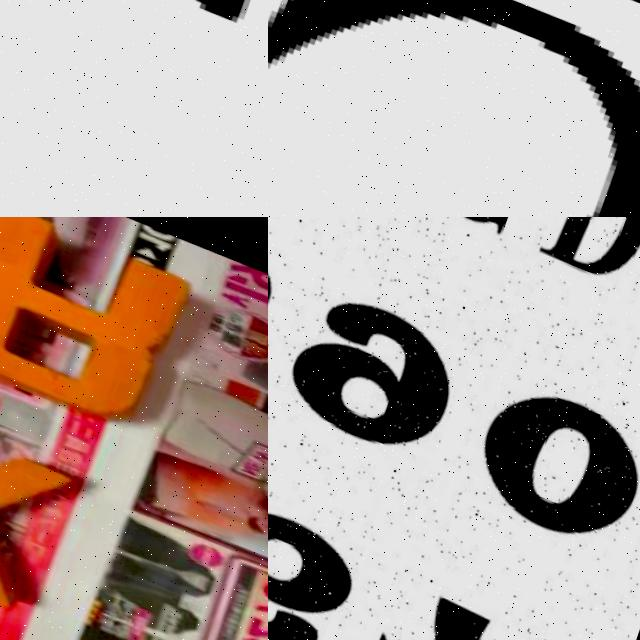0: (447, 353, 640, 572)
6: (268, 473, 380, 640)
7: (349, 552, 543, 640)
9: (270, 264, 482, 476)
J: (12, 0, 268, 217)
R: (0, 217, 195, 431)
S: (268, 0, 640, 217)
X: (0, 391, 71, 608)
